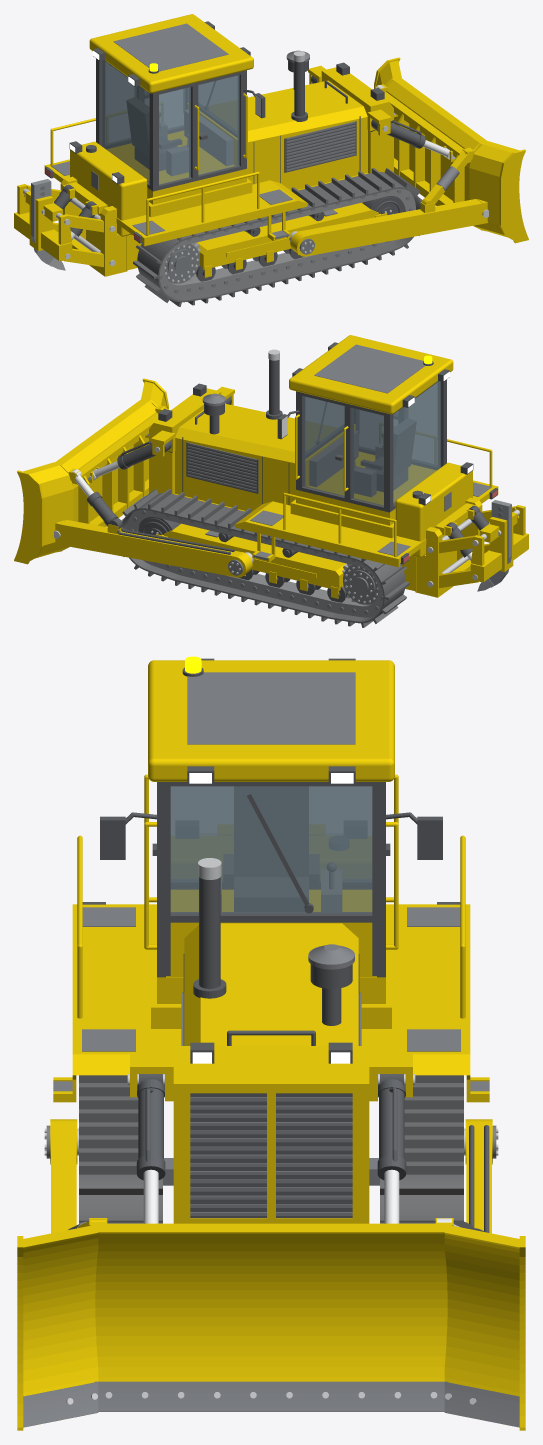
Rendered from crawler-dozer-20t.glb.
3 renders of one model, top to bottom at view 1: azimuth 30°, elevation 25°; view 2: azimuth 150°, elevation 25°; view 3: azimuth 270°, elevation 25°, orthographic. The views are drawn at different scales.
Parts seen in each view (by area): view 1: track_frame_L, track_rollers_L, cab_glass, link_pins_L, track_shoes_L, track_links_L, idler_bolts_L, ripper_shank, mirror_glass; view 2: track_frame_L, track_rollers_L, cab_glass, link_pins_L, track_shoes_L, track_links_L, idler_bolts_L, ripper_shank, mirror_glass; view 3: track_frame_L, track_rollers_L, link_pins_L, cab_glass, track_shoes_L, mirror_glass, idler_bolts_L, headlights.
Part boxes in pixels (x1,y1,x2,y2): track_frame_L: (14,14,528,277); track_rollers_L: (45,21,425,281); cab_glass: (102,60,239,184); link_pins_L: (40,23,459,293); track_shoes_L: (133,168,422,306); track_links_L: (160,189,415,296); idler_bolts_L: (23,51,488,282); ripper_shank: (31,179,53,266); mirror_glass: (70,85,449,239); track_frame_L: (14,335,528,598); track_rollers_L: (86,342,497,602); cab_glass: (303,381,440,505); link_pins_L: (129,344,502,614); track_shoes_L: (121,489,409,627); track_links_L: (127,510,382,617); idler_bolts_L: (54,349,519,603); ripper_shank: (489,500,511,587); mirror_glass: (71,416,472,560); track_frame_L: (17,660,525,1430); track_rollers_L: (82,658,489,1232); link_pins_L: (23,672,519,1427); cab_glass: (170,786,372,913); track_shoes_L: (79,1075,463,1223); mirror_glass: (143,1169,459,1226); idler_bolts_L: (44,858,498,1404); headlights: (189,773,353,1063).
Bounding box in the file's own units: 6.64 × 3.28 × 3.38.
